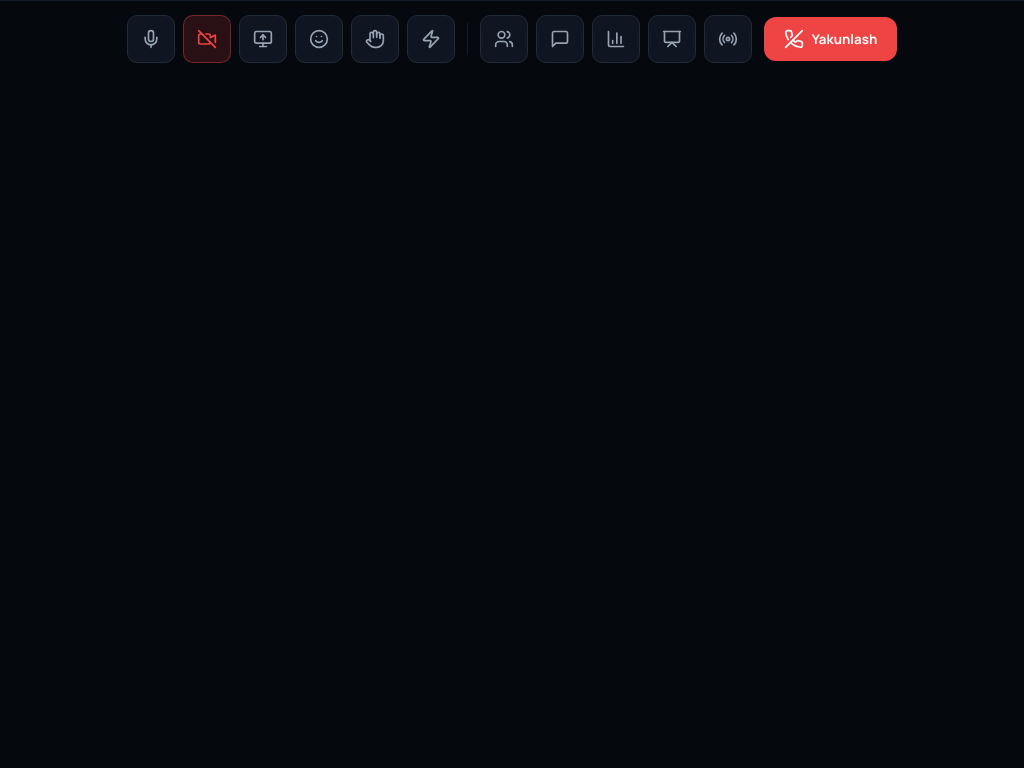
Test: Controls — ekran ulashish eslatmasi › bekor qilinsa ulashish BOSHLANMAYDI
Step 1. Click the button named "Ekran" → (263, 38), box [239,14,287,62]
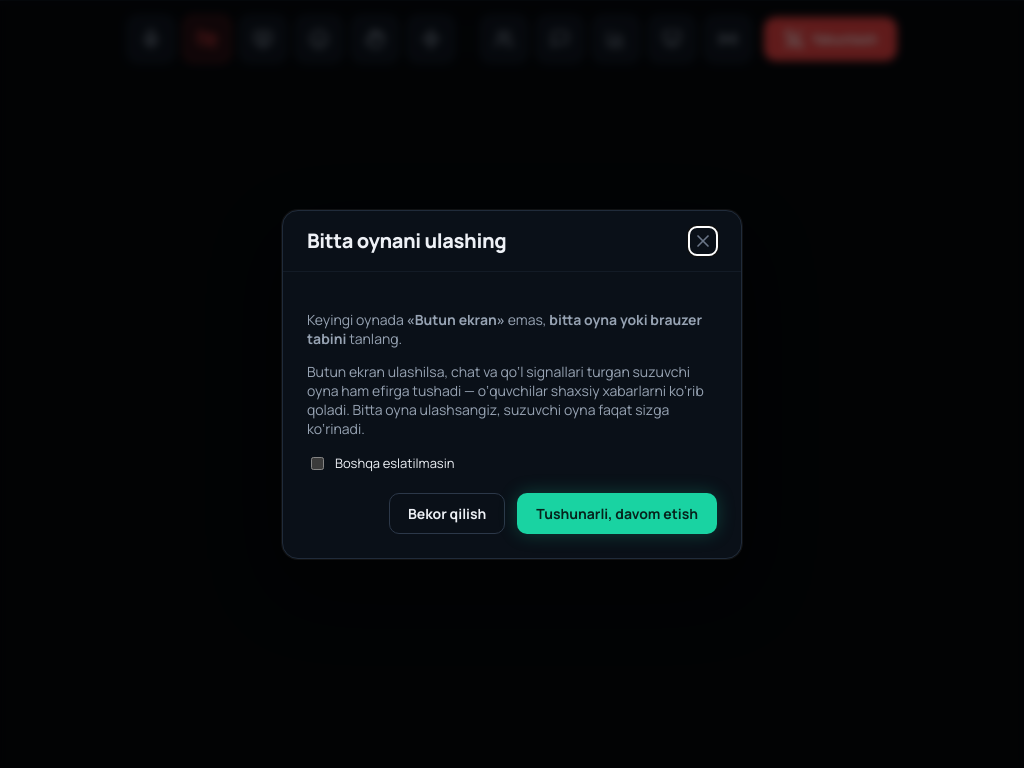
Step 2. Click the button "Bekor qilish" → (447, 513), box [389,492,505,534]
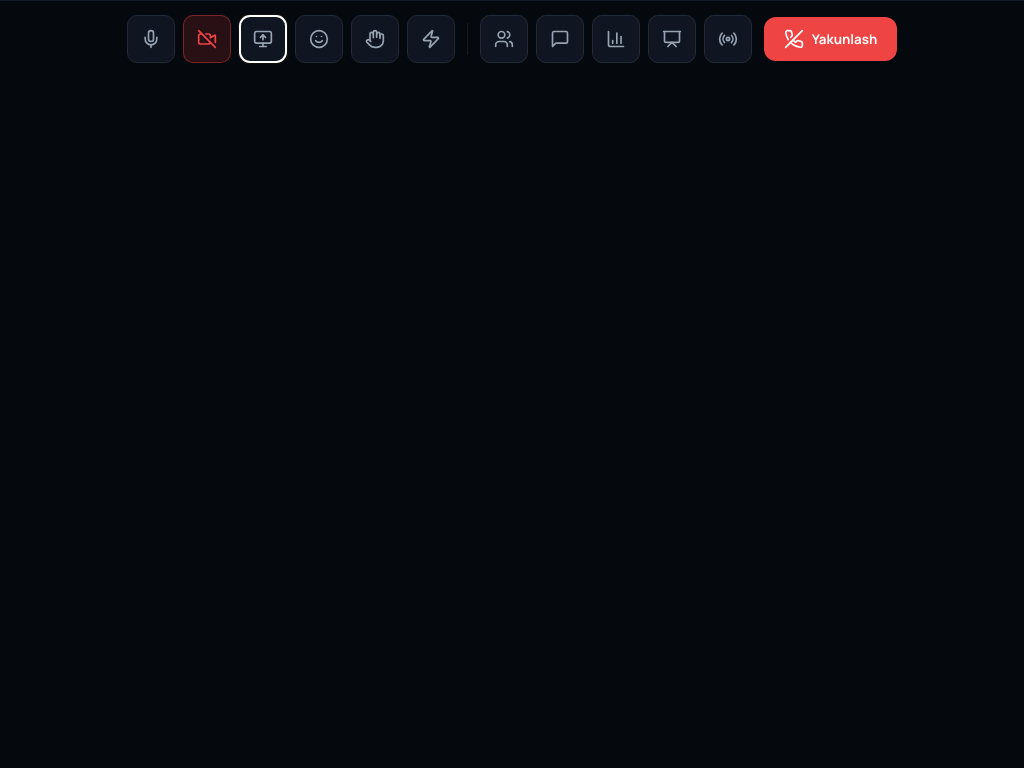
Result: the heading "Bitta oynani ulashing" is gone
